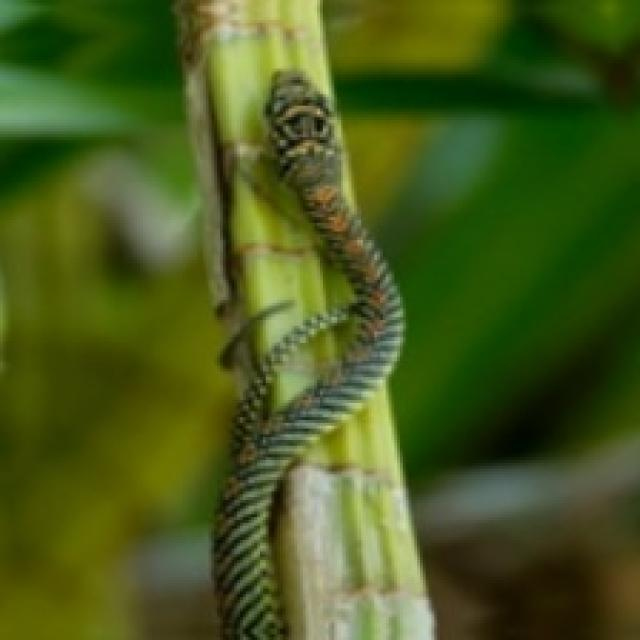paradise tree snake: (214, 71, 404, 639)
